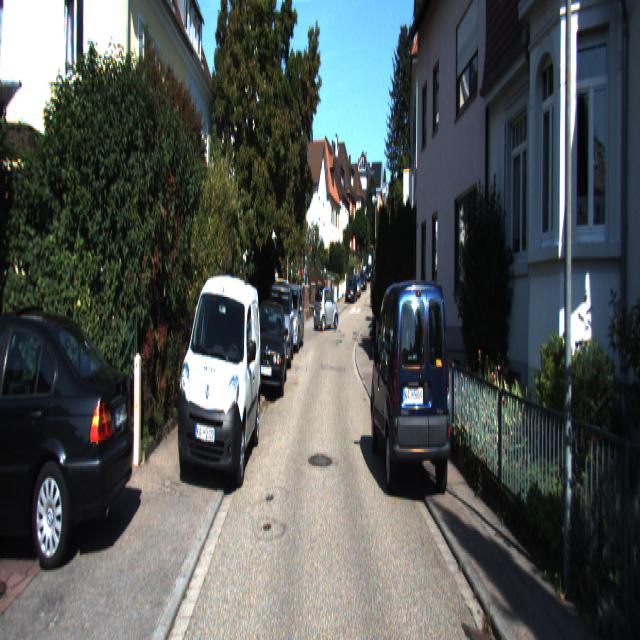Car: (0, 300, 144, 569), (176, 254, 265, 486), (369, 276, 456, 507), (251, 298, 289, 398), (266, 278, 296, 372), (275, 282, 306, 353), (313, 284, 339, 330)
